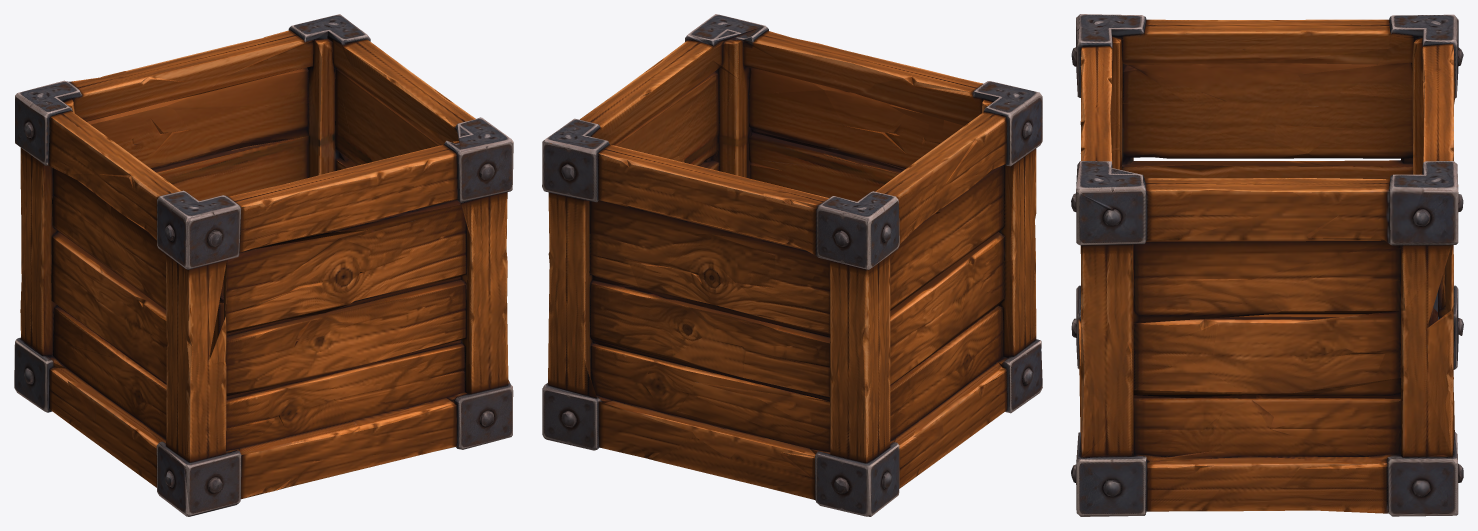
File: open-wooden-crate-no-lid.glb
3 renders of one model, left to right at view 1: azimuth 30°, elevation 25°; view 2: azimuth 150°, elevation 25°; view 3: azimuth 270°, elevation 25°, orthographic. The views are drawn at different scales.
Size of the model in its own units: 1.9 by 1.62 by 1.75.
Materials: 1 (1 with a texture image).
